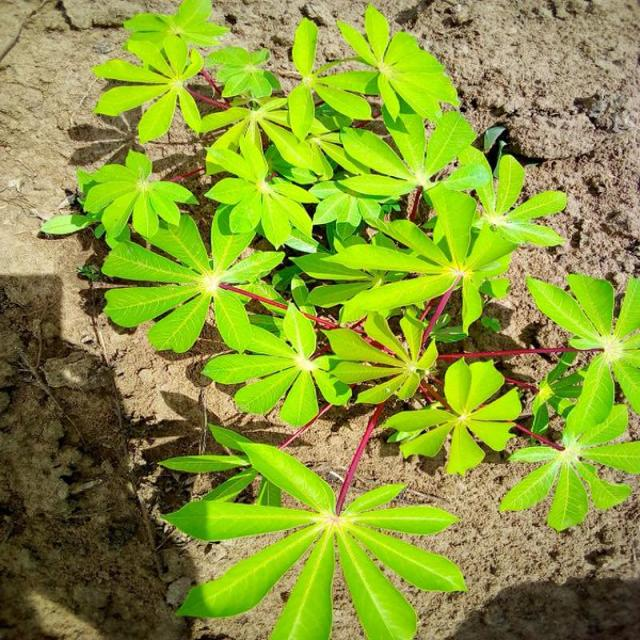cassava leaf: (46, 1, 639, 637), (159, 407, 468, 638)
